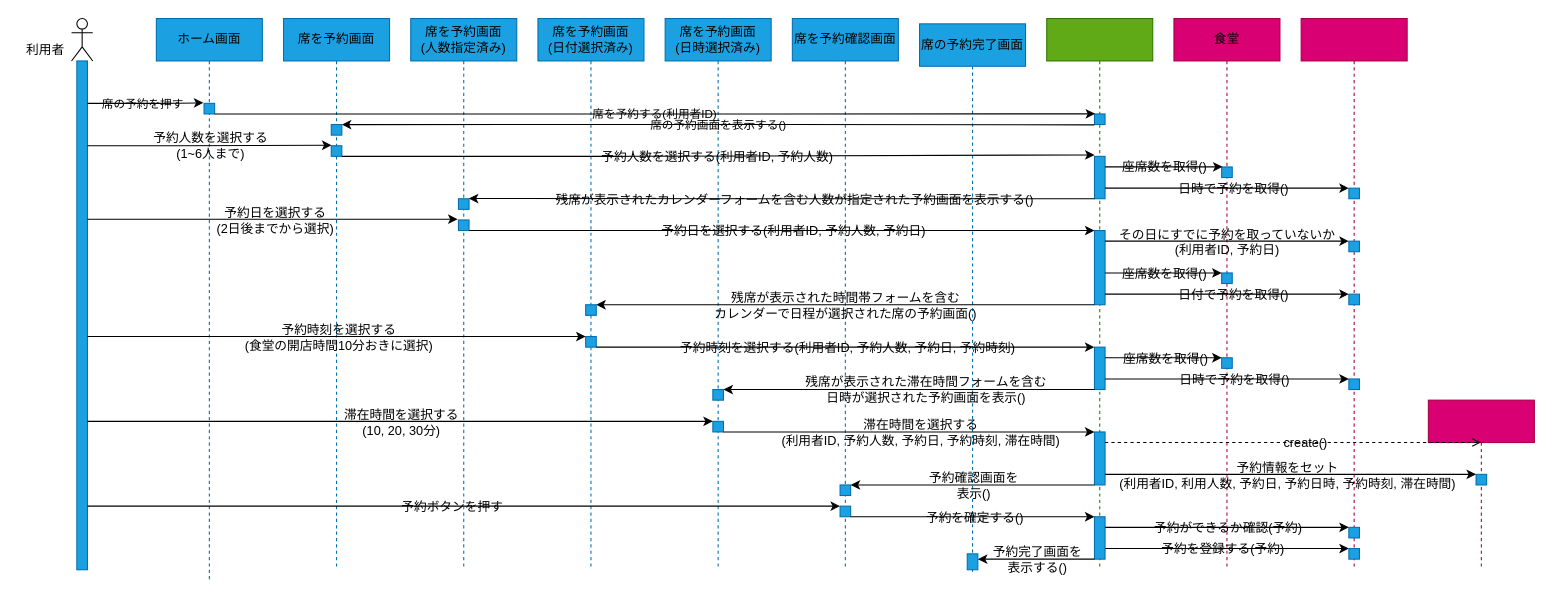
Some shapes in this 1553 by 599 pixel diagram are drawn without their labels. The box of each missing label's shape, as (x1, y1, x2, y2) in pixels:
予約: (1427, 399, 1534, 570)
予約台帳: (1300, 17, 1407, 570)
座席予約 コントローラ: (1046, 17, 1153, 570)
